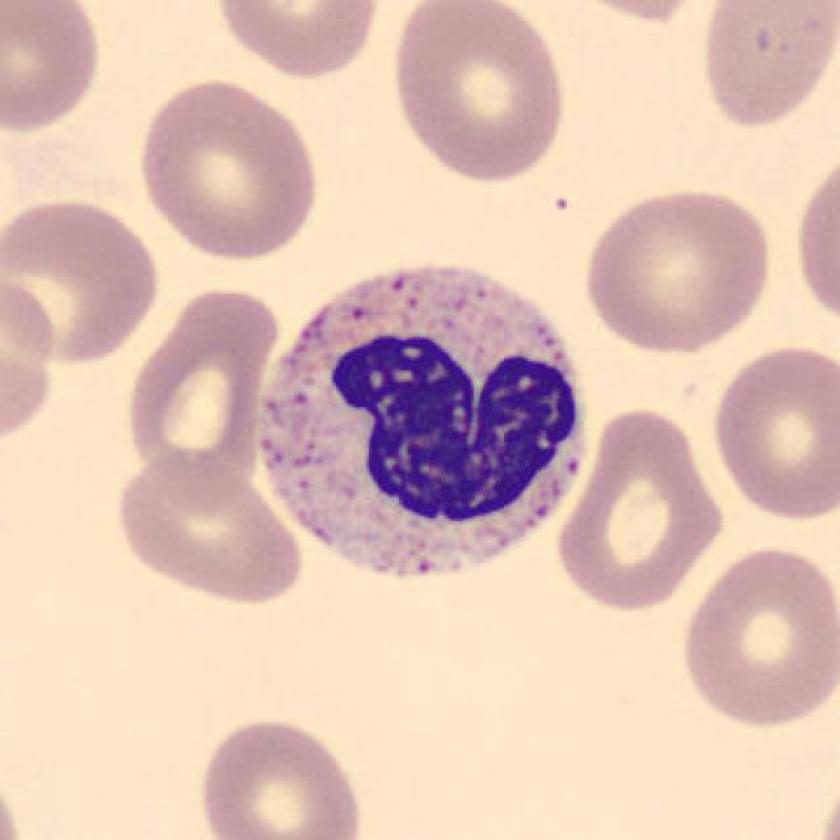neutrophil: (260, 270, 585, 579)
